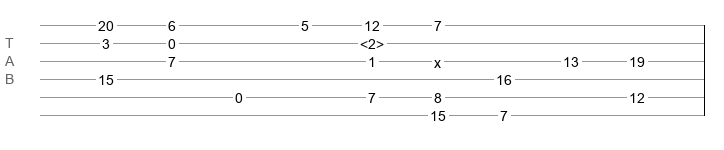0: (168, 36, 176, 46), (235, 90, 243, 100)
1: (368, 54, 376, 64)
12: (364, 18, 380, 28), (629, 90, 645, 100)
13: (563, 54, 579, 64)
15: (98, 72, 114, 82), (430, 108, 446, 118)
16: (496, 72, 512, 82)
19: (629, 54, 645, 64)
20: (98, 18, 114, 28)
3: (102, 36, 110, 46)
5: (301, 18, 309, 28)
6: (168, 18, 176, 28)
7: (168, 54, 176, 64), (368, 90, 376, 100), (434, 18, 442, 28), (500, 108, 508, 118)
8: (434, 90, 442, 100)
harmonic: (360, 36, 384, 46)
x: (434, 55, 441, 63)
